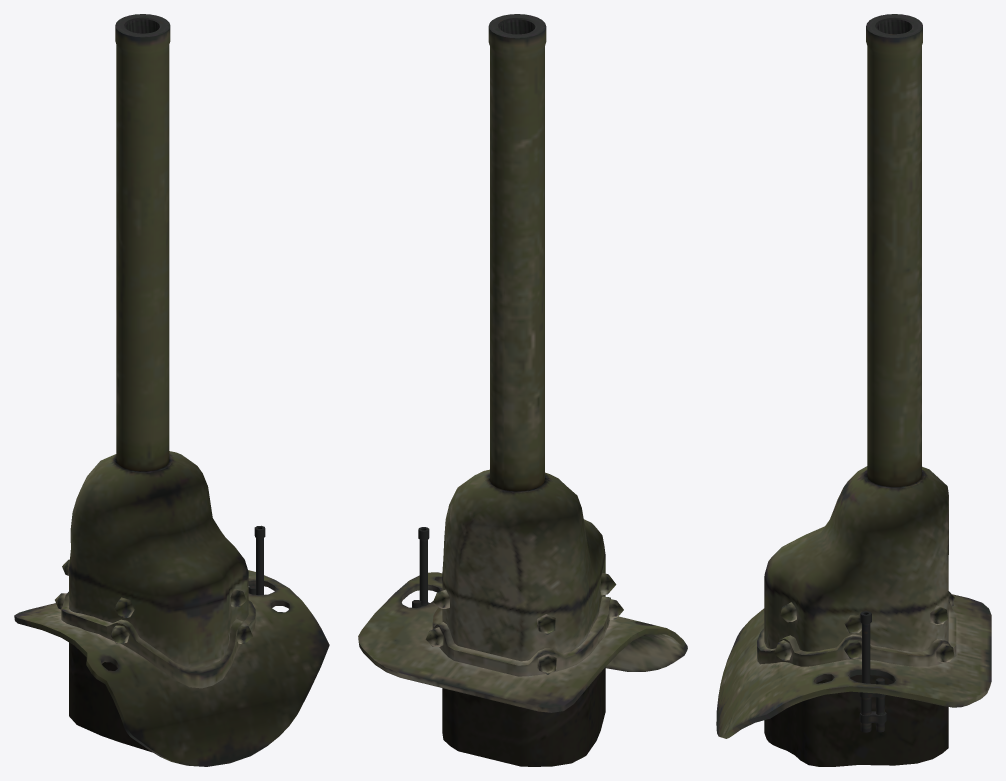
File: Gun_01.glb
3 views of the same model, side by side, from view 1: azimuth 30°, elevation 25°; view 2: azimuth 150°, elevation 25°; view 3: azimuth 270°, elevation 25° (orthographic). The views are drawn at different scales.
Parts seen in each view (by area): view 1: set_0_group_0; view 2: set_0_group_0; view 3: set_0_group_0.
Part boxes in pixels (bbox=[...]): set_0_group_0: bbox=[14, 14, 329, 766]; set_0_group_0: bbox=[358, 14, 687, 766]; set_0_group_0: bbox=[716, 14, 991, 766].
Bounding box in the file's own units: 0.5571 × 1.64 × 0.5791.
1 material, 1 textured.
